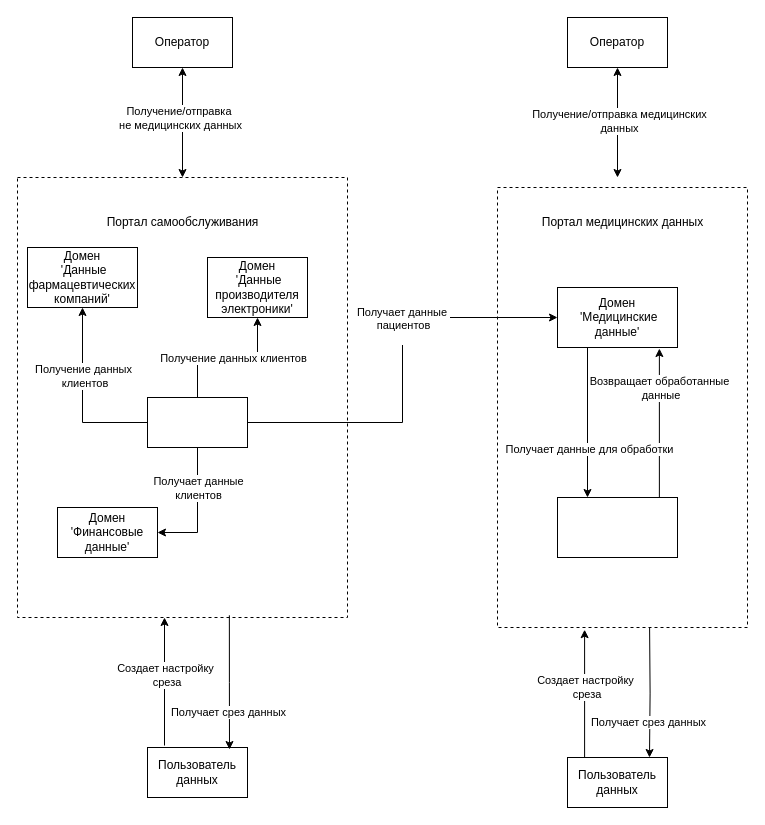
This 765x825 diagram has some shape labels left out. Here are the shapes that lost their labels. From the top down, the centre of each, then its label:
point (197, 422): Домен 'Клиентские данные'
point (617, 527): Домен 'Данные настройки ИИ'
